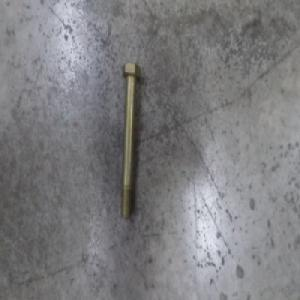Bolt: (119, 58, 142, 224)
